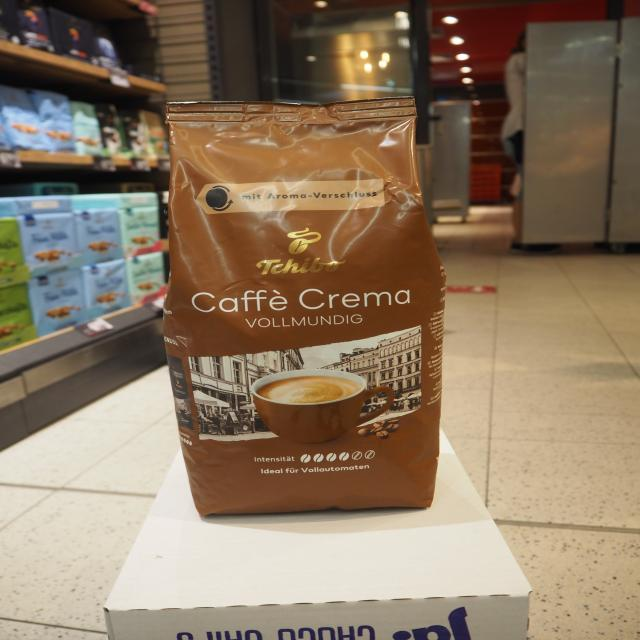CC Vollmundig 36 Pads: (160, 93, 451, 524)
